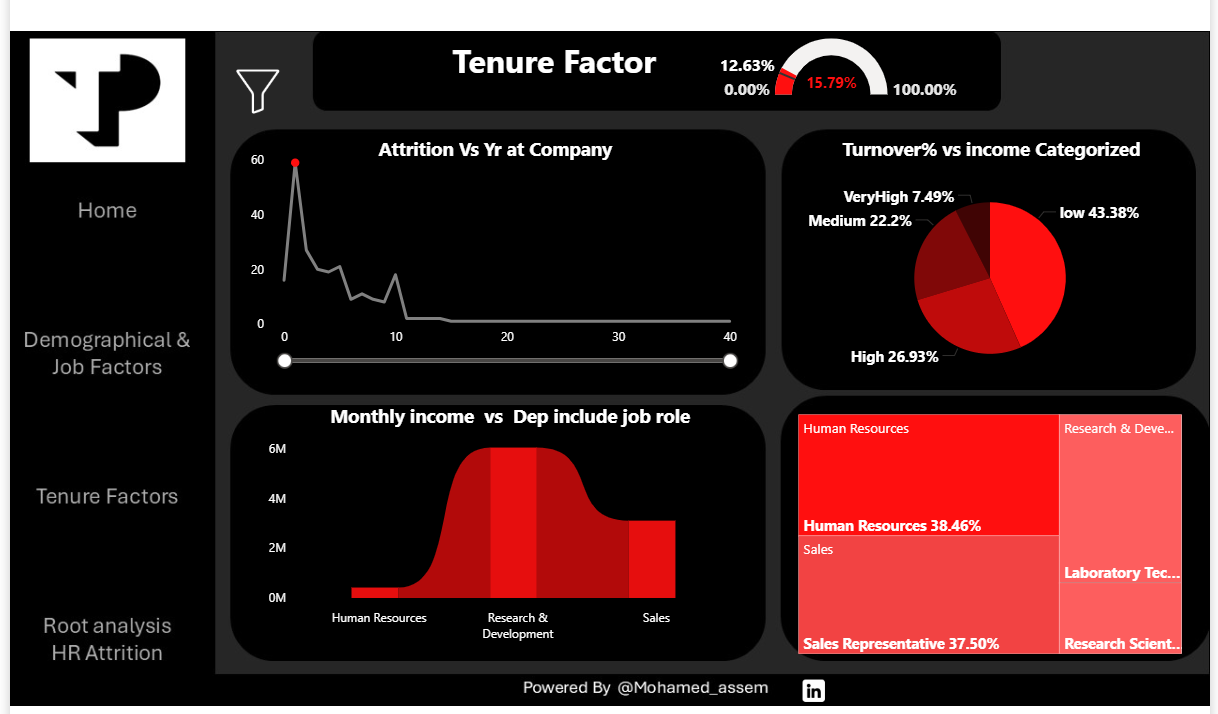

Layout of this report page (visuals, bound fields, positions):
{"tool":"powerbi","page":{"name":"Tenure Factors","canvas":[1200,800],"ordinal":2},"visuals":[{"type":"textbox","title":"page Title","box":[305.6,62,476.1,71.8],"z":0},{"type":"textbox","title":"Attrition yr t company","box":[288.7,160.6,393,42.3],"z":0,"group":"g1"},{"type":"lineChart","fields":{"Y":["Dax_measures.total atrition number"],"Category":["WA_Fn-UseC_-HR-Employee-Attriti.YearsAtCompany"]},"box":[236.6,173.2,498.6,226.8],"z":0,"group":"g2"},{"type":"shape","title":"Home","box":[0,202.5,198.8,83.8],"z":0,"group":"g3"},{"type":"group","id":"g1","title":"titles","box":[288.7,160.6,888.7,309.9],"z":1000},{"type":"textbox","title":"Turnover% income","box":[784.5,160.6,393,42.3],"z":1000,"group":"g1"},{"type":"pieChart","fields":{"Category":["WA_Fn-UseC_-HR-Employee-Attriti.Monthly income categorized"],"Y":["Dax_measures.overall Attririon Rate %"]},"box":[784.5,202.8,393,207],"z":1000,"group":"g2"},{"type":"shape","title":"dem button","box":[0,357.5,198.8,83.8],"z":1000,"group":"g3"},{"type":"group","id":"g2","title":"Graphs ","box":[236.6,173.2,940.8,514.1],"z":2000},{"type":"textbox","title":"monthly income tree","box":[305.6,428.2,393,42.3],"z":2000,"group":"g1"},{"type":"treemap","fields":{"Group":["WA_Fn-UseC_-HR-Employee-Attriti.Department"],"Details":["WA_Fn-UseC_-HR-Employee-Attriti.JobRole"],"Values":["Dax_measures.High risk tenure attrition as LT 2 years"]},"box":[784.5,438,393,249.3],"z":2000,"group":"g2"},{"type":"shape","title":"Tenure Factors","box":[0,483.1,198.8,83.8],"z":2000,"group":"g3"},{"type":"shape","title":"Root analysis HR","box":[0,620,198.8,83.8],"z":2500,"group":"g3"},{"type":"gauge","fields":{"Y":["Dax_measures.High risk tenure attrition as LT 2 years"],"TargetValue":["Dax_measures.high risk target"]},"box":[668.8,62.5,323.8,71.2],"z":3000},{"type":"ribbonChart","fields":{"Y":["Sum(WA_Fn-UseC_-HR-Employee-Attriti.MonthlyIncome)"],"Category":["WA_Fn-UseC_-HR-Employee-Attriti.Department","WA_Fn-UseC_-HR-Employee-Attriti.JobRole"]},"box":[236.6,438,498.6,239.4],"z":3000,"group":"g2"},{"type":"image","title":"filter Icon","box":[215.5,94.4,66.2,53.5],"z":4000},{"type":"group","id":"g3","title":"Button","box":[0,202.5,198.8,501.2],"z":6000},{"type":"image","title":"Linkedin","box":[763.4,704.2,80.3,32.4],"z":7000}]}

Visuals, with their boxes on the page's 1200x800 design canvas (x1, y1, x2, y2). These are canvas units, not pixel positions in the 1218x714 screenshot, which may show the page scaled, cropped or inside an application window:
"page Title" textbox: rect(306, 62, 782, 134)
"Attrition yr t company" textbox: rect(289, 161, 682, 203)
lineChart - Dax_measures.total atrition number x WA_Fn-UseC_-HR-Employee-Attriti.YearsAtCompany: rect(237, 173, 735, 400)
"Home" shape: rect(0, 202, 199, 286)
"titles" group: rect(289, 161, 1177, 470)
"Turnover% income" textbox: rect(784, 161, 1178, 203)
pieChart - WA_Fn-UseC_-HR-Employee-Attriti.Monthly income categorized x Dax_measures.overall Attririon Rate %: rect(784, 203, 1178, 410)
"dem button" shape: rect(0, 358, 199, 441)
"Graphs " group: rect(237, 173, 1177, 687)
"monthly income tree" textbox: rect(306, 428, 699, 470)
treemap - WA_Fn-UseC_-HR-Employee-Attriti.Department x WA_Fn-UseC_-HR-Employee-Attriti.JobRole: rect(784, 438, 1178, 687)
"Tenure Factors" shape: rect(0, 483, 199, 567)
"Root analysis HR" shape: rect(0, 620, 199, 704)
gauge - Dax_measures.High risk tenure attrition as LT 2 years x Dax_measures.high risk target: rect(669, 62, 993, 134)
ribbonChart - Sum(WA_Fn-UseC_-HR-Employee-Attriti.MonthlyIncome) x WA_Fn-UseC_-HR-Employee-Attriti.Department: rect(237, 438, 735, 677)
"filter Icon" image: rect(216, 94, 282, 148)
"Button" group: rect(0, 202, 199, 704)
"Linkedin" image: rect(763, 704, 844, 737)
